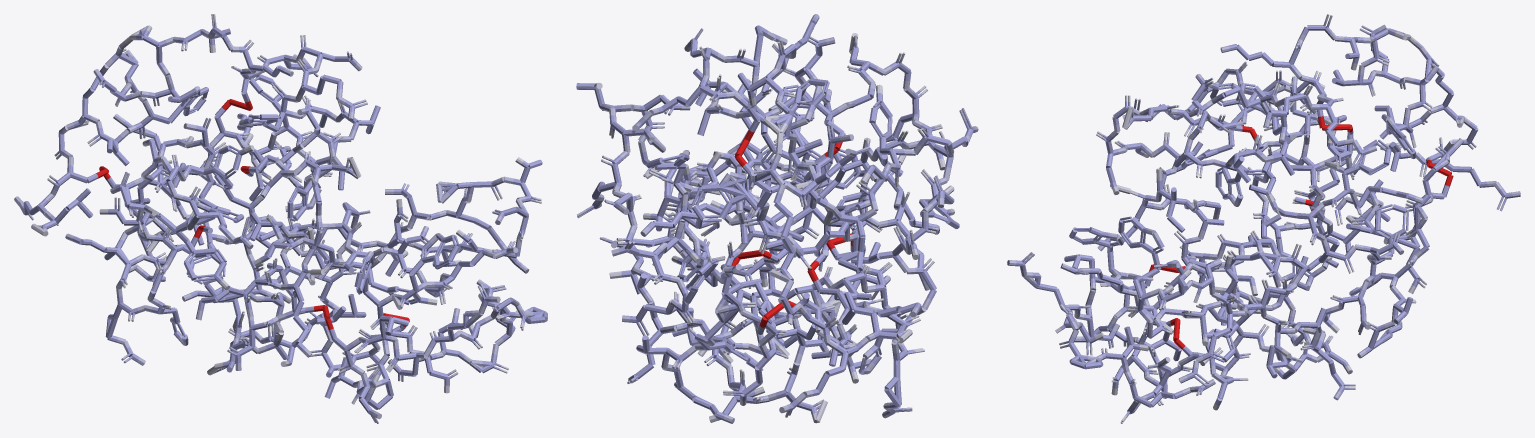
The model's file is 1lyz__sticks__b-factor.glb.
3 renders of one model, left to right at view 1: azimuth 30°, elevation 25°; view 2: azimuth 150°, elevation 25°; view 3: azimuth 270°, elevation 25°, orthographic. The views are drawn at different scales.
Visible parts, largest first — view 1: Renderer Node; view 2: Renderer Node; view 3: Renderer Node.
Part boxes in pixels (box(x1,y1,x2,y2)): Renderer Node: box(14, 14, 547, 423); Renderer Node: box(576, 14, 978, 423); Renderer Node: box(1007, 14, 1520, 423).
Size of the model in its own units: 38.95 by 32.98 by 44.29.
